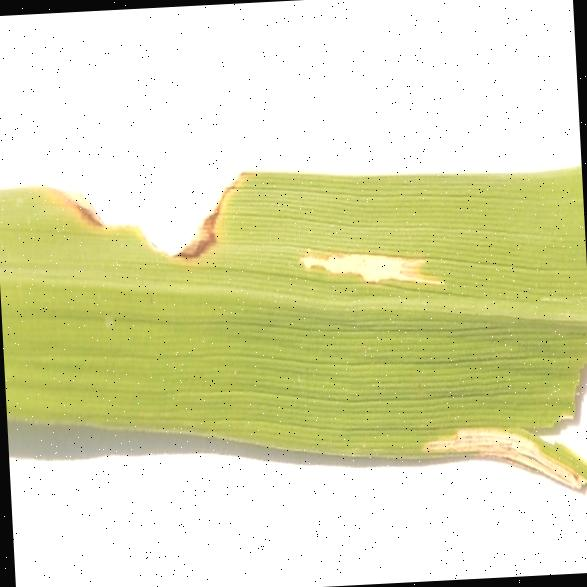Bacteria_Leaf_Blight: (262, 190, 518, 380)
